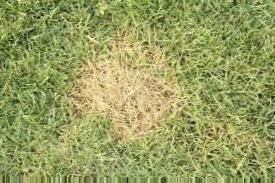patch: (82, 61, 159, 117)
